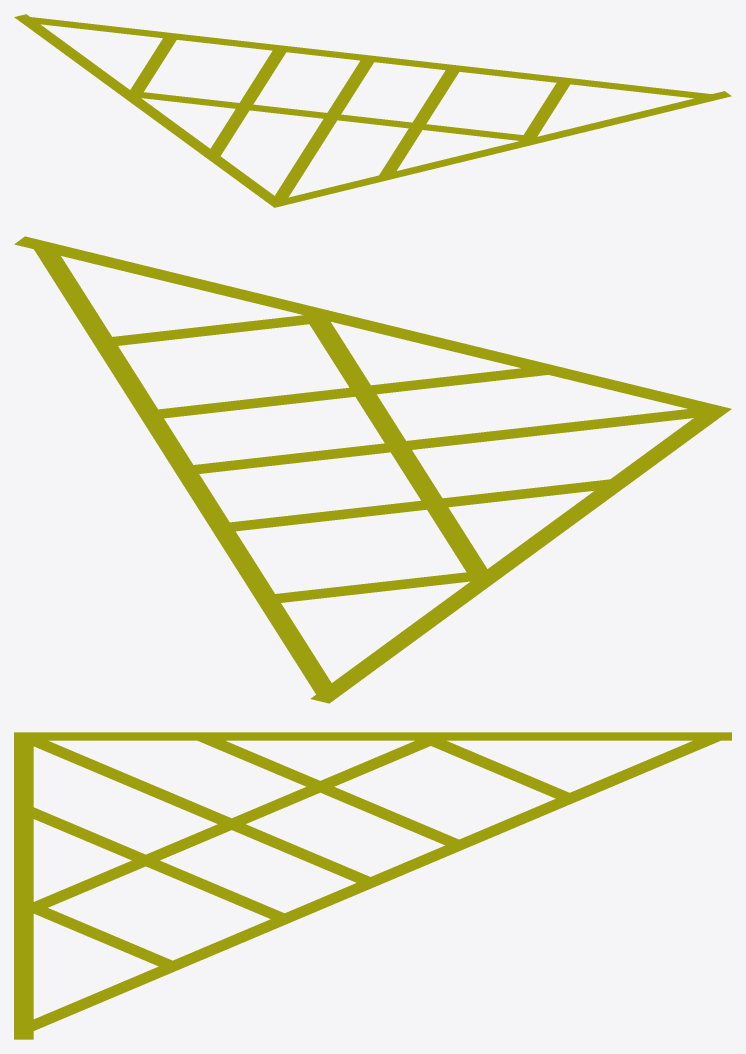
Rendered from Ground_decal_no_go_diag.FBX.
The picture shows the model from 3 angles, top to bottom: view 1: azimuth 30°, elevation 25°; view 2: azimuth 150°, elevation 25°; view 3: azimuth 270°, elevation 25°; orthographic projection. The views are drawn at different scales.
Visible parts, largest first — view 1: Ground_no_go_diag; view 2: Ground_no_go_diag; view 3: Ground_no_go_diag.
Boxes of the visible parts, <box> form: Ground_no_go_diag: <box>14,14,731,207</box>; Ground_no_go_diag: <box>14,236,731,703</box>; Ground_no_go_diag: <box>14,732,731,1039</box>.
Size of the model in its own units: 497 by 3e-14 by 491.
